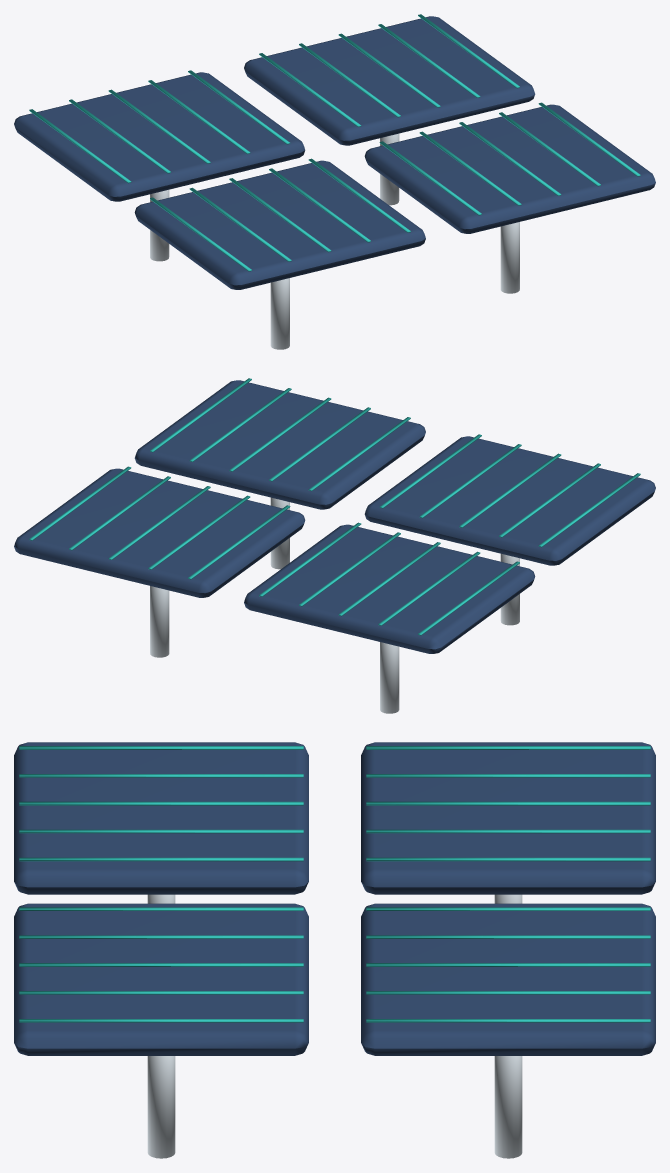
File: solar-array-lite.glb
3 views of the same model, one above another, from view 1: azimuth 30°, elevation 25°; view 2: azimuth 150°, elevation 25°; view 3: azimuth 270°, elevation 25° (orthographic). The views are drawn at different scales.
Parts seen in each view (by area): view 1: Panel; view 2: Panel; view 3: Panel.
Boxes of the visible parts, left/top/right/bottom form: Panel: left=14, top=14, right=655, bottom=349; Panel: left=14, top=378, right=655, bottom=713; Panel: left=14, top=742, right=655, bottom=1158.
Size of the model in its own units: 2.04 by 0.5995 by 1.85.
